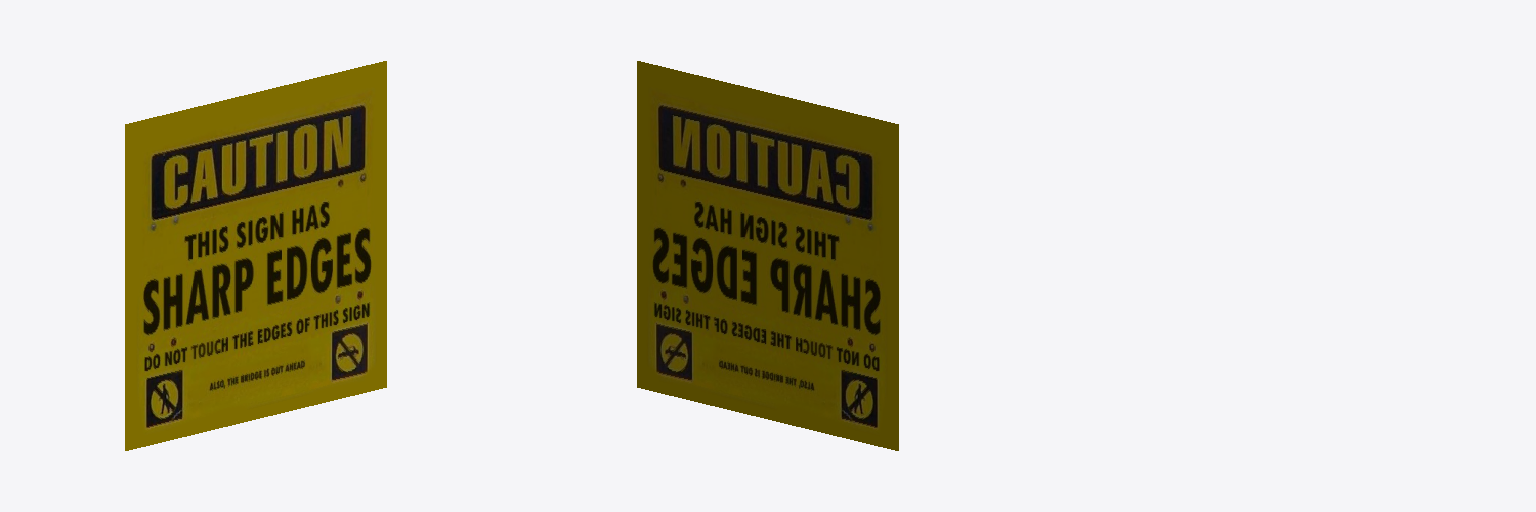
3 renders of one model, left to right at view 1: azimuth 30°, elevation 25°; view 2: azimuth 150°, elevation 25°; view 3: azimuth 270°, elevation 25°, orthographic.
Parts seen in each view (by area): view 1: Box02; view 2: Box02; view 3: none.
Part boxes in pixels (x1,y1,x2,y2): Box02: (125, 61, 386, 450); Box02: (637, 61, 898, 450).
Size of the model in its own units: 6.24 by 7.44 by 0.
1 materials, 1 textured.